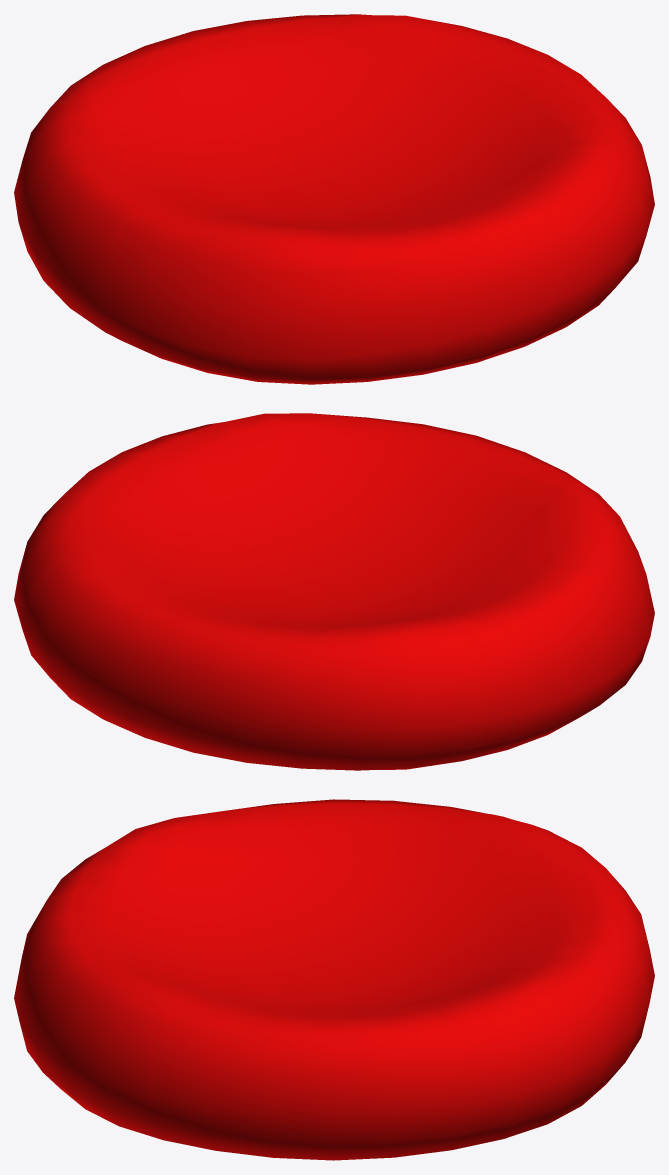
The model's file is Zelle.fbx.
The picture shows the model from 3 angles, top to bottom: view 1: azimuth 30°, elevation 25°; view 2: azimuth 150°, elevation 25°; view 3: azimuth 270°, elevation 25°; orthographic projection. The views are drawn at different scales.
Visible parts, largest first — view 1: Zelle; view 2: Zelle; view 3: Zelle.
Part boxes in pixels (box(x1,y1,x2,y2)): Zelle: box(14, 14, 654, 384); Zelle: box(14, 413, 654, 770); Zelle: box(14, 799, 654, 1160).
Bounding box in the file's own units: 1.78 × 0.4367 × 1.76.
